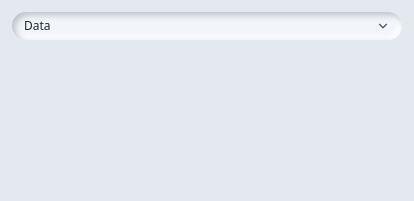
NeuSelect › clicar numa opção seleciona e fecha a lista
Press ArrowDown in the button with aria-label "ordenar por", box 12,12 -> 402,40
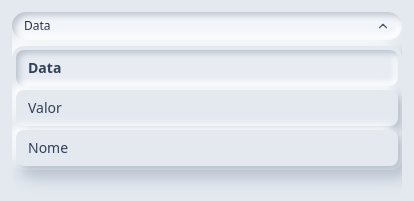
Click the button "Valor".
click(45, 108)  # box 16,90 -> 398,126
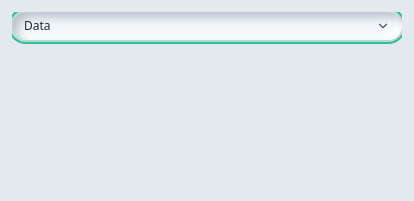
Expected: the list is gone
